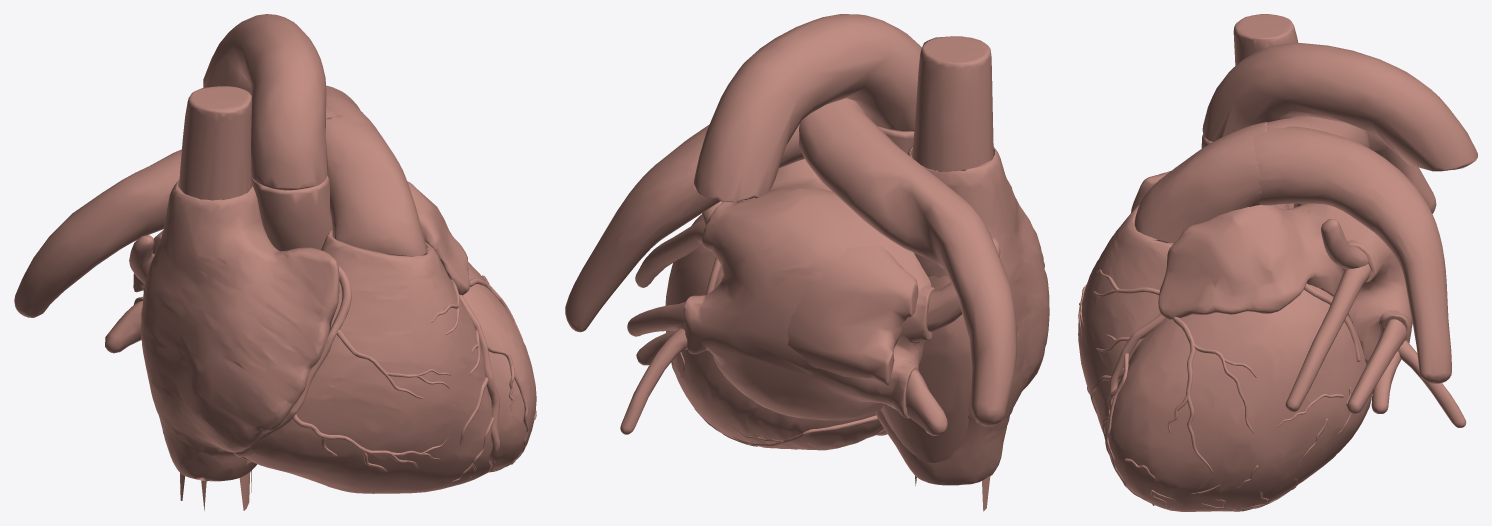
Rendered from heart.glb.
3 renders of one model, left to right at view 1: azimuth 30°, elevation 25°; view 2: azimuth 150°, elevation 25°; view 3: azimuth 270°, elevation 25°, orthographic. The views are drawn at different scales.
Visible parts, largest first — view 1: ventricular-wall__FJ2428, right-atrium__FJ2439, aorta__FJ3411, pulmonary-arteries__FJ3019, pulmonary-arteries__FJ2966, svc__FJ3645, aorta__FJ3413, left-atrium__FJ2438, coronary__FJ2723, coronary__FJ2631, pulmonary-veins__FJ3040, pulmonary-arteries__FJ2924 (+2 smaller); view 2: left-atrium__FJ2438, pulmonary-arteries__FJ3019, aorta__FJ3411, right-atrium__FJ2439, left-atrium__FJ2425, pulmonary-arteries__FJ2924, ventricular-wall__FJ2428, svc__FJ3645, right-atrium__FJ2424, pulmonary-veins__FJ2944, pulmonary-veins__FJ2933, pulmonary-veins__FJ3040 (+3 smaller); view 3: ventricular-wall__FJ2428, left-atrium__FJ2438, aorta__FJ3411, pulmonary-arteries__FJ2924, pulmonary-arteries__FJ2966, pulmonary-veins__FJ2933, pulmonary-arteries__FJ3019, svc__FJ3645, pulmonary-veins__FJ2955, pulmonary-veins__FJ2925, pulmonary-veins__FJ2944, coronary__FJ2631 (+4 smaller).
Part boxes in pixels (x1,y1,x2,y2): ventricular-wall__FJ2428: (242, 230, 536, 493); right-atrium__FJ2439: (140, 179, 339, 481); aorta__FJ3411: (203, 14, 328, 190); pulmonary-arteries__FJ3019: (14, 108, 335, 317); pulmonary-arteries__FJ2966: (325, 115, 427, 255); svc__FJ3645: (179, 86, 251, 199); aorta__FJ3413: (251, 175, 332, 251); left-atrium__FJ2438: (134, 181, 470, 304); coronary__FJ2723: (234, 265, 351, 461); coronary__FJ2631: (459, 294, 499, 471); pulmonary-veins__FJ3040: (105, 301, 142, 353); pulmonary-arteries__FJ2924: (326, 85, 376, 128); left-atrium__FJ2438: (683, 159, 935, 420); pulmonary-arteries__FJ3019: (799, 98, 1017, 426); aorta__FJ3411: (694, 14, 921, 201); right-atrium__FJ2439: (875, 145, 1049, 485); left-atrium__FJ2425: (787, 244, 918, 385); pulmonary-arteries__FJ2924: (565, 124, 804, 332); ventricular-wall__FJ2428: (665, 214, 884, 450); svc__FJ3645: (912, 36, 993, 171); right-atrium__FJ2424: (880, 275, 972, 462); pulmonary-veins__FJ2944: (620, 328, 687, 434); pulmonary-veins__FJ2933: (635, 220, 705, 287); pulmonary-veins__FJ3040: (906, 369, 947, 435); ventricular-wall__FJ2428: (1078, 204, 1372, 511); left-atrium__FJ2438: (1158, 203, 1412, 364); aorta__FJ3411: (1202, 43, 1477, 171); pulmonary-arteries__FJ2924: (1253, 126, 1451, 383); pulmonary-arteries__FJ2966: (1134, 122, 1267, 243); pulmonary-veins__FJ2933: (1285, 264, 1370, 411); pulmonary-arteries__FJ3019: (1267, 116, 1436, 213); svc__FJ3645: (1233, 14, 1298, 116); pulmonary-veins__FJ2955: (1347, 319, 1406, 413); pulmonary-veins__FJ2925: (1321, 219, 1368, 269); pulmonary-veins__FJ2944: (1398, 340, 1466, 427); coronary__FJ2631: (1105, 313, 1165, 454).
Bounding box in the file's own units: 0.1408 × 0.1456 × 0.1268.
